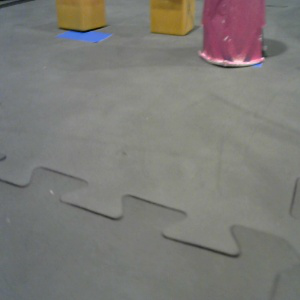Right: (198, 1, 268, 67)
